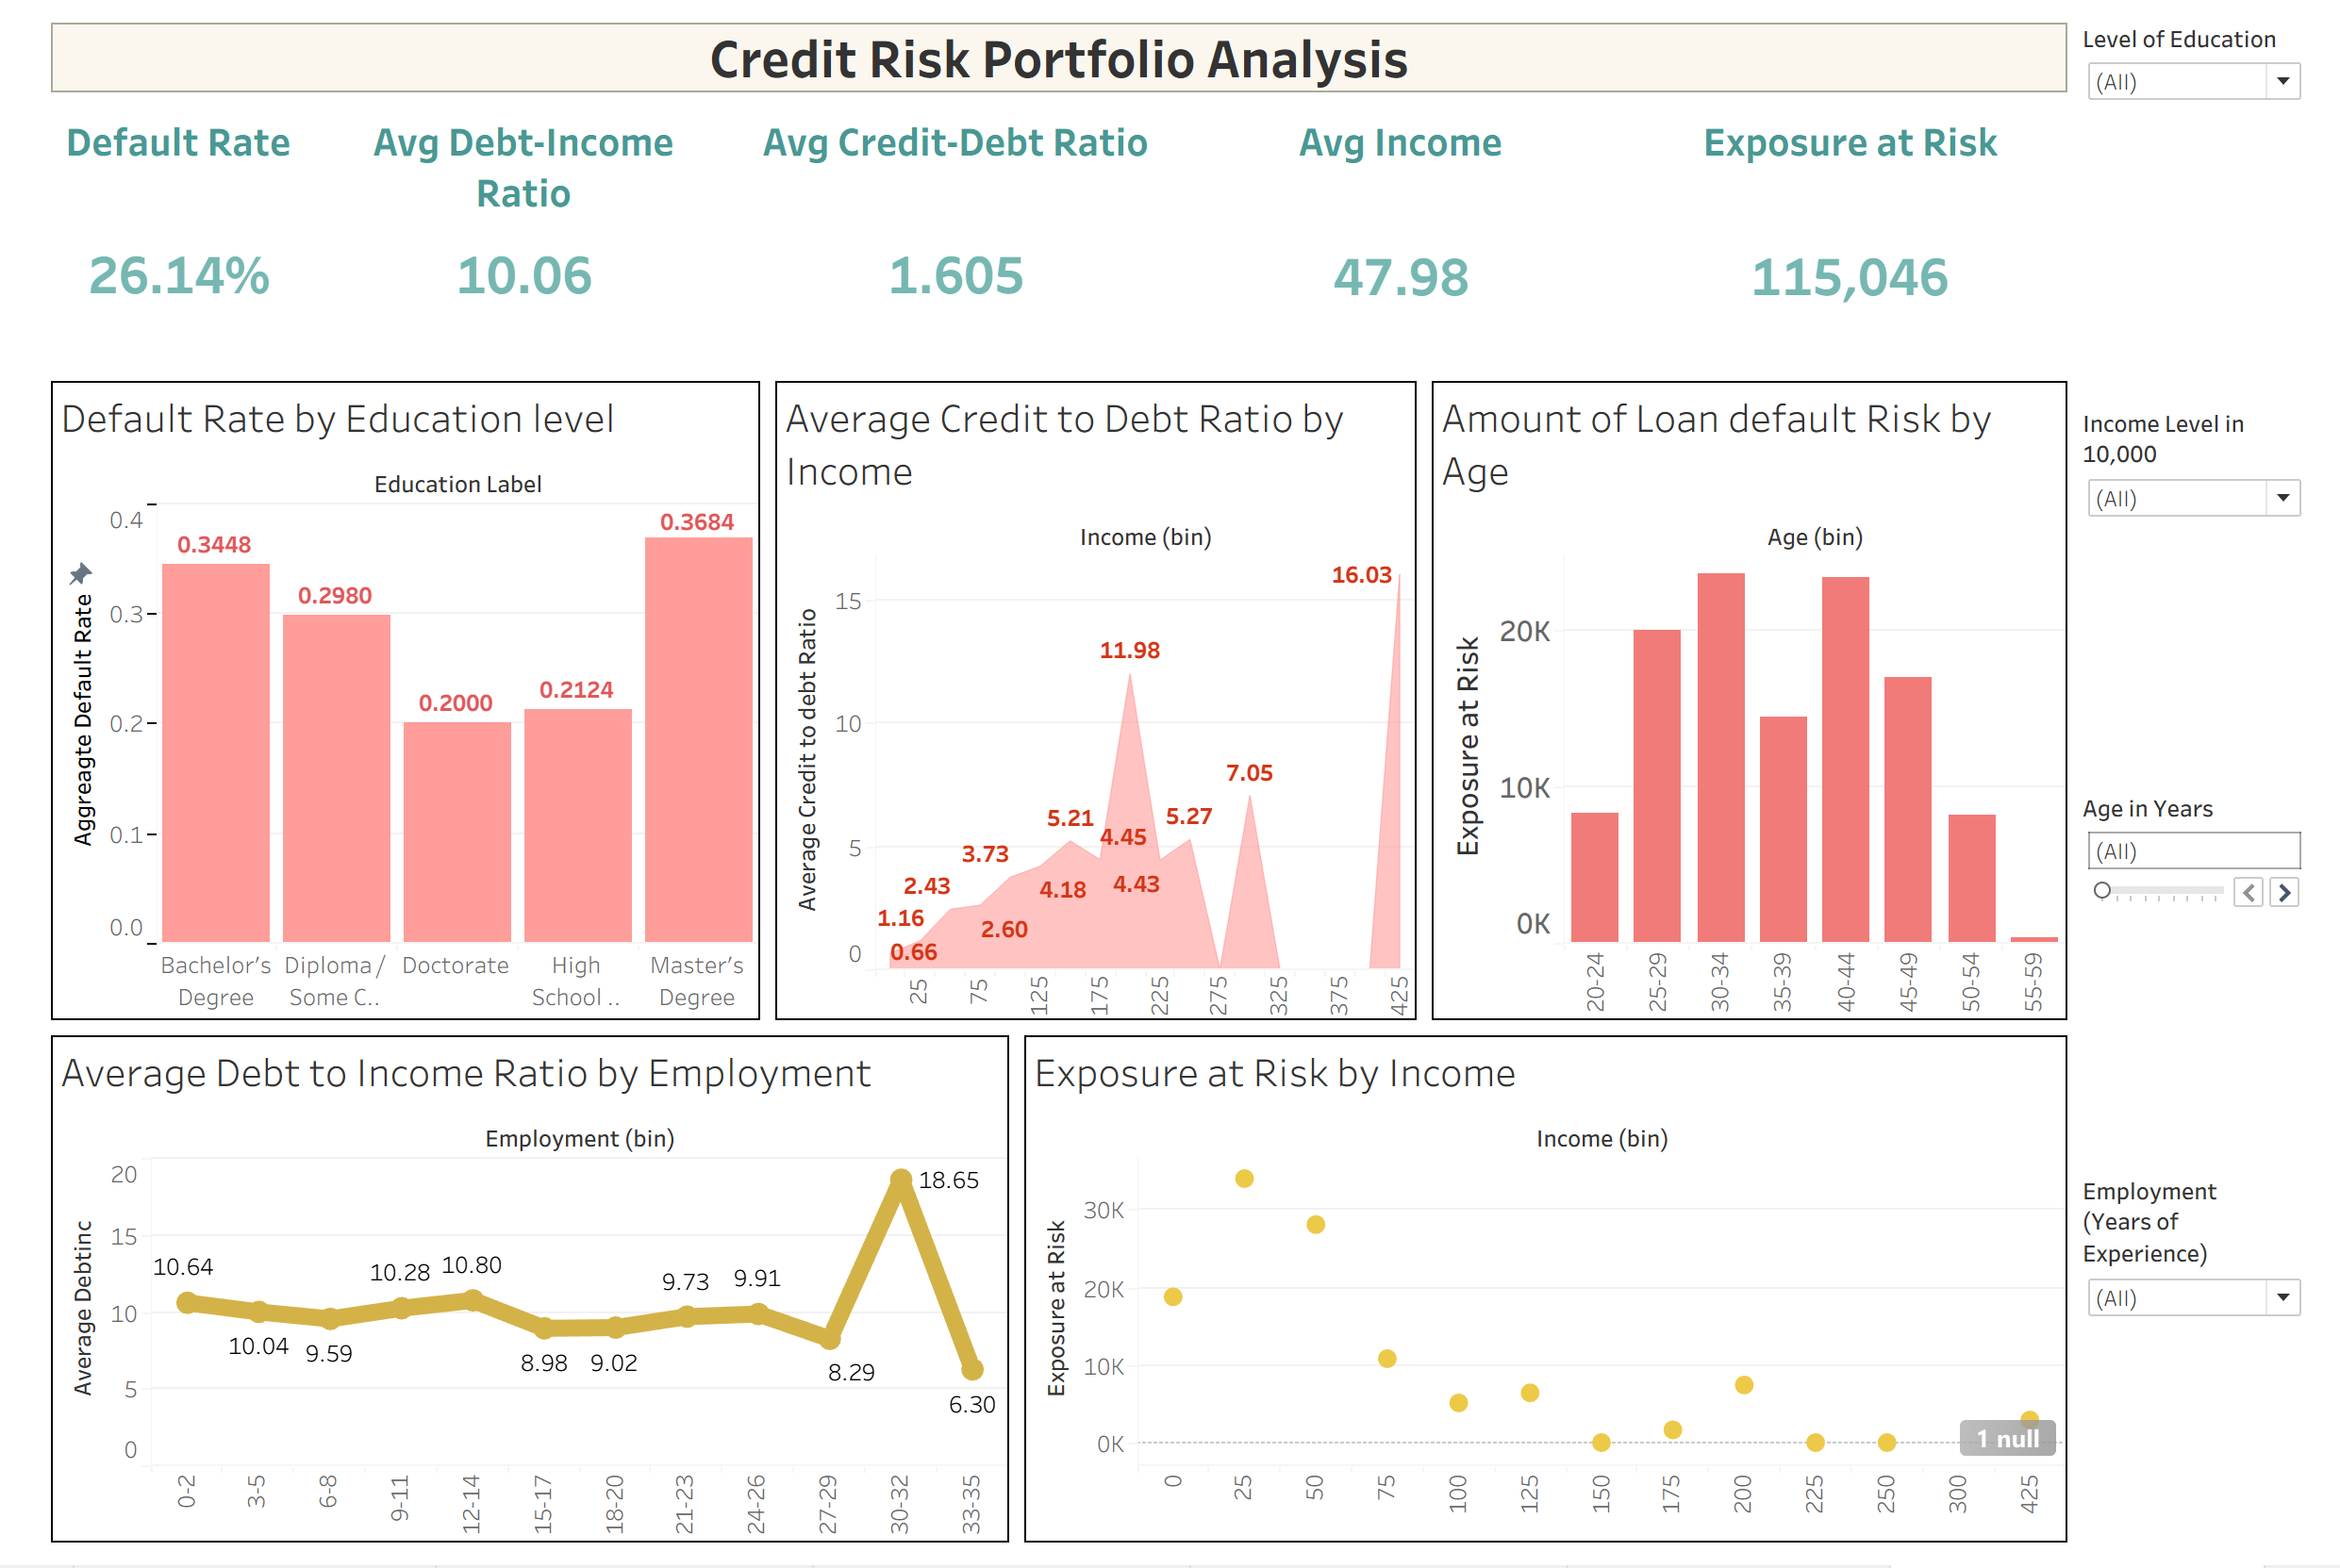

The dashboard page shown, as its layout file describes it:
{"tool":"tableau","page":{"name":"Credit Risk Portfolio Analysis","canvas":[1000,1000],"units":"permille","ordinal":0},"visuals":[{"type":"title","box":[6.6,12.1,882.8,68.2]},{"type":"filter","title":"Default Rate by Education level","param":"[federated.1t6c9000j3ldjp1af6mpl0muyl50].[none:Calculation_311592867320135686:nk","box":[889.3,12.1,104.1,243.9]},{"type":"worksheet","title":"Default Rate","mark":"Automatic","box":[6.6,80.3,117.6,171]},{"type":"worksheet","title":"Average DebtInc","mark":"Automatic","box":[124.2,80.3,182.9,171]},{"type":"worksheet","title":"Average Creddebt","mark":"Automatic","box":[307.1,80.3,191.1,171]},{"type":"worksheet","title":"Average Income","mark":"Automatic","box":[498.4,80.3,195.9,171.2]},{"type":"worksheet","title":"Exposure at Risk","mark":"Automatic","box":[694.3,80.3,195.1,171.2]},{"type":"worksheet","title":"Default Rate by Education level","mark":"Bar","rows":["Calculation_311592867310198784"],"cols":["Calculation_311592867320135686"],"box":[6.6,251.3,314.5,409.4]},{"type":"worksheet","title":"Average Credit to Debt Ratio by Income","mark":"Area","rows":["Calculation_311592867310624770"],"cols":["Income (bin)"],"box":[321.1,251.3,285.4,409.4]},{"type":"worksheet","title":"Amount of Loan default Risk by Age","mark":"Bar","rows":["Calculation_311592867311001605"],"cols":["Age (bin)"],"box":[606.6,251.3,282.8,409.4]},{"type":"filter","title":"Average Credit to Debt Ratio by Income","param":"[federated.1t6c9000j3ldjp1af6mpl0muyl50].[none:Income (bin):ok]","box":[889.3,256.1,104.1,243.9]},{"type":"filter","title":"Amount of Loan default Risk by Age","param":"[federated.1t6c9000j3ldjp1af6mpl0muyl50].[none:Age (bin):ok]","box":[889.3,500,104.1,243.9]},{"type":"worksheet","title":"Average Debt to Income Ratio by Employment","mark":"Line","rows":["Calculation_311592867310489601"],"cols":["Employ (bin)"],"box":[6.6,660.8,422.7,327.1]},{"type":"worksheet","title":"Exposure at Risk by Income","mark":"Pie","rows":["Calculation_311592867311001605"],"cols":["Income (bin)"],"box":[429.2,660.8,460.1,327.1]},{"type":"filter","title":"Average Debt to Income Ratio by Employment","param":"[federated.1t6c9000j3ldjp1af6mpl0muyl50].[none:Employ (bin):ok]","box":[889.3,743.9,104.1,243.9]}]}

Visuals, with their boxes on the dashboard's canvas, which has no fixed pixel size, in thousandths of its width and height (x1, y1, x2, y2). These are canvas units, not pixel positions in the 2340x1568 screenshot, which may show the page scaled, cropped or inside an application window:
title: 7, 12, 889, 80
"Default Rate by Education level" filter: 889, 12, 993, 256
"Default Rate" worksheet: 7, 80, 124, 251
"Average DebtInc" worksheet: 124, 80, 307, 251
"Average Creddebt" worksheet: 307, 80, 498, 251
"Average Income" worksheet: 498, 80, 694, 252
"Exposure at Risk" worksheet: 694, 80, 889, 252
"Default Rate by Education level" worksheet (Bar marks): 7, 251, 321, 661
"Average Credit to Debt Ratio by Income" worksheet (Area marks): 321, 251, 606, 661
"Amount of Loan default Risk by Age" worksheet (Bar marks): 607, 251, 889, 661
"Average Credit to Debt Ratio by Income" filter: 889, 256, 993, 500
"Amount of Loan default Risk by Age" filter: 889, 500, 993, 744
"Average Debt to Income Ratio by Employment" worksheet (Line marks): 7, 661, 429, 988
"Exposure at Risk by Income" worksheet (Pie marks): 429, 661, 889, 988
"Average Debt to Income Ratio by Employment" filter: 889, 744, 993, 988
